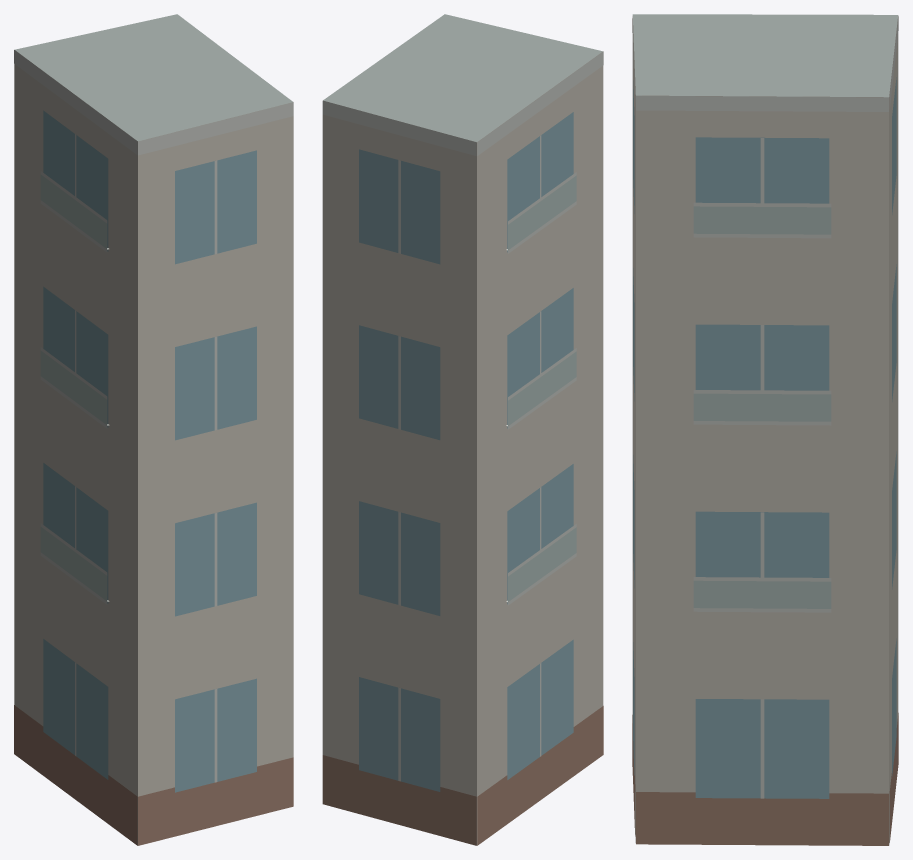
File: survey-upis-32877384.glb
3 views of the same model, side by side, from view 1: azimuth 30°, elevation 25°; view 2: azimuth 150°, elevation 25°; view 3: azimuth 270°, elevation 25° (orthographic). The views are drawn at different scales.
Parts seen in each view (by area): view 1: survey-upis-32877384.tmp; view 2: survey-upis-32877384.tmp; view 3: survey-upis-32877384.tmp.
Boxes of the visible parts, x1,y1,x2,y2 form: survey-upis-32877384.tmp: (14, 14, 293, 845); survey-upis-32877384.tmp: (322, 14, 603, 845); survey-upis-32877384.tmp: (632, 14, 898, 845).
Bounding box in the file's own units: 2.96 × 12.2 × 3.93.
